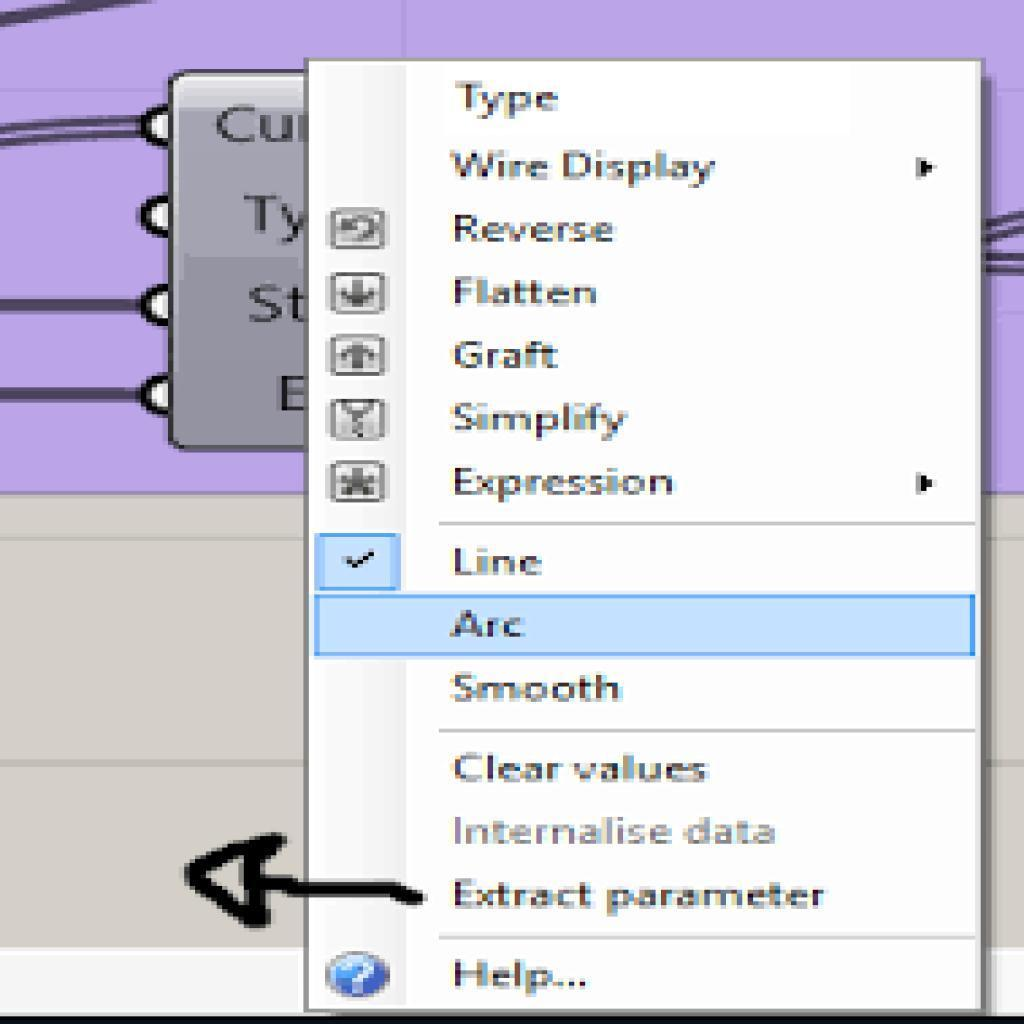button: (315, 594, 976, 657)
checkbox: (320, 534, 399, 592)
icon: (328, 952, 391, 1000), (331, 398, 385, 443), (332, 334, 387, 378), (330, 208, 387, 250), (332, 460, 385, 505), (330, 274, 386, 315), (907, 150, 944, 182), (912, 468, 941, 502)
label: (452, 875, 830, 918), (452, 144, 721, 194), (452, 815, 782, 852), (450, 748, 716, 791), (454, 464, 679, 503), (450, 398, 634, 441), (454, 668, 626, 713), (450, 211, 618, 250), (454, 271, 606, 311), (452, 957, 595, 997), (450, 77, 565, 124), (445, 540, 555, 583), (454, 334, 565, 376)
